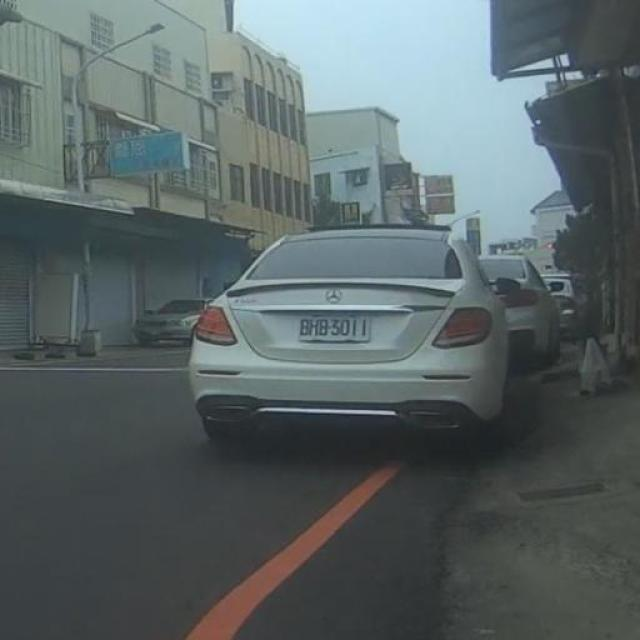illegalparking: (189, 228, 559, 439)
